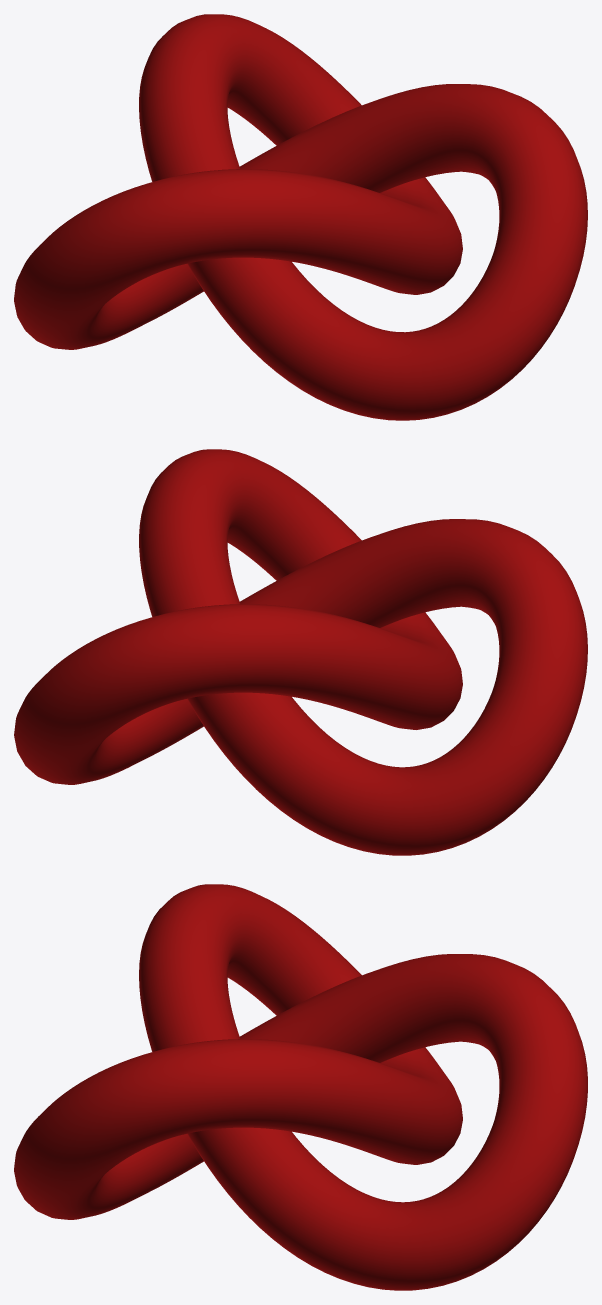
The model's file is torusknot.obj.
3 views of the same model, one above another, from view 1: azimuth 30°, elevation 25°; view 2: azimuth 150°, elevation 25°; view 3: azimuth 270°, elevation 25° (orthographic).
Visible parts, largest first — view 1: torusknot; view 2: torusknot; view 3: torusknot.
Part boxes in pixels (box(x1,y1,x2,y2)): torusknot: box(14, 14, 587, 420); torusknot: box(14, 449, 587, 855); torusknot: box(14, 884, 587, 1290).
Bounding box in the file's own units: 3.03 × 1.5 × 3.23.
